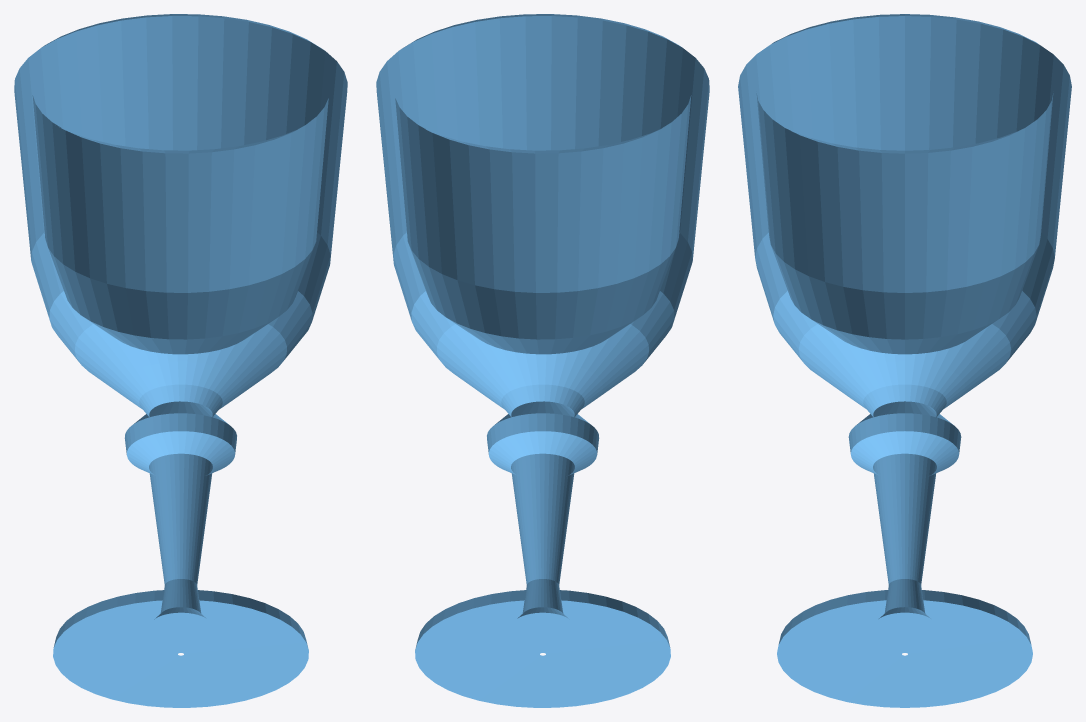
The model's file is glass_from_obj.gltf.
3 renders of one model, left to right at view 1: azimuth 30°, elevation 25°; view 2: azimuth 150°, elevation 25°; view 3: azimuth 270°, elevation 25°, orthographic.
Bounding box in the file's own units: 0.7632 × 1.44 × 0.7632.
